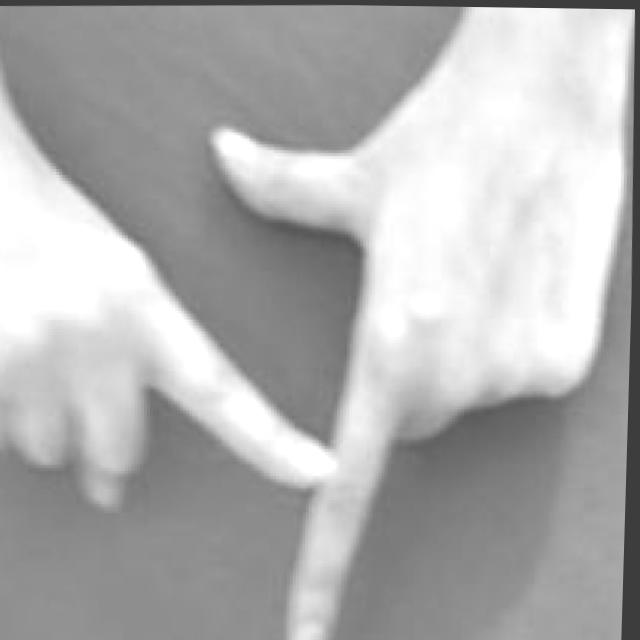F: (0, 64, 637, 640)
